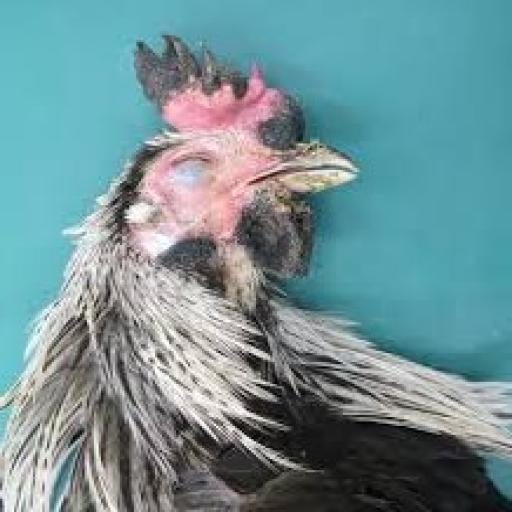disease: (118, 28, 281, 127), (140, 140, 248, 206)
